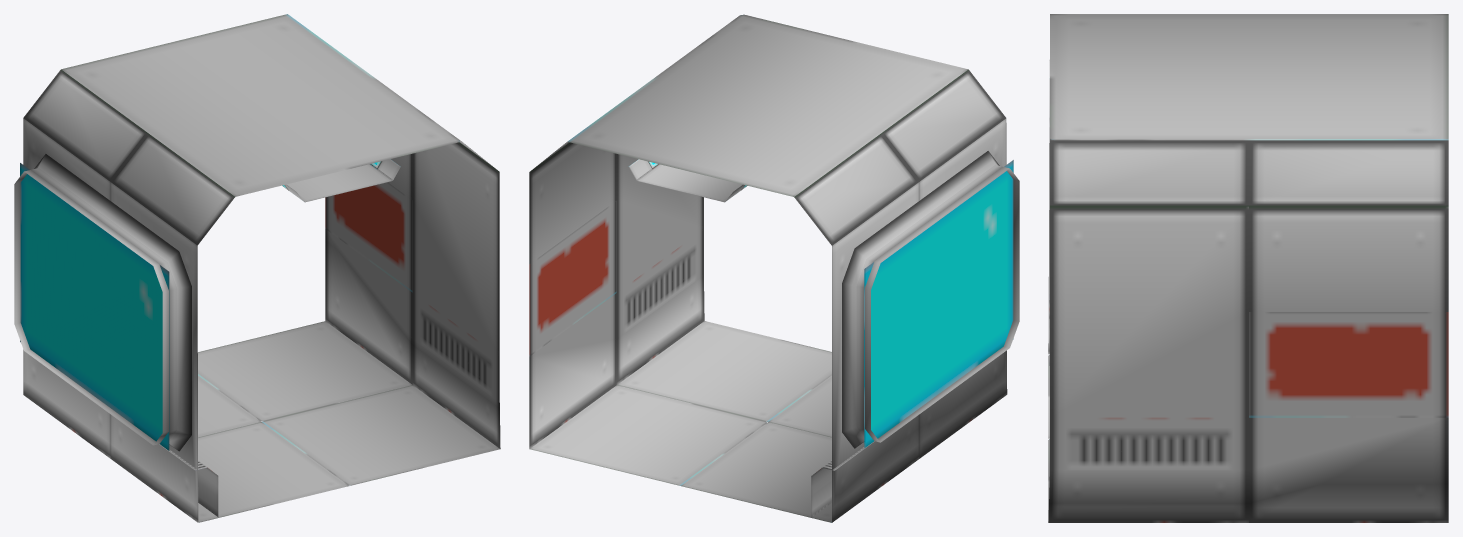
The model's file is corr_win_3.fbx.
3 views of the same model, side by side, from view 1: azimuth 30°, elevation 25°; view 2: azimuth 150°, elevation 25°; view 3: azimuth 270°, elevation 25° (orthographic). The views are drawn at different scales.
Visible parts, largest first — view 1: Cube_013; view 2: Cube_013; view 3: Cube_013.
Boxes of the visible parts, x1,y1,x2,y2 form: Cube_013: (14,14,500,522); Cube_013: (529,14,1019,522); Cube_013: (1048,14,1448,522).
Size of the model in its own units: 8.63 by 8 by 8.02.
